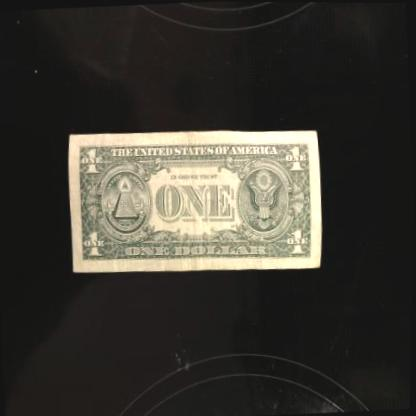one-back: (64, 121, 327, 280)
